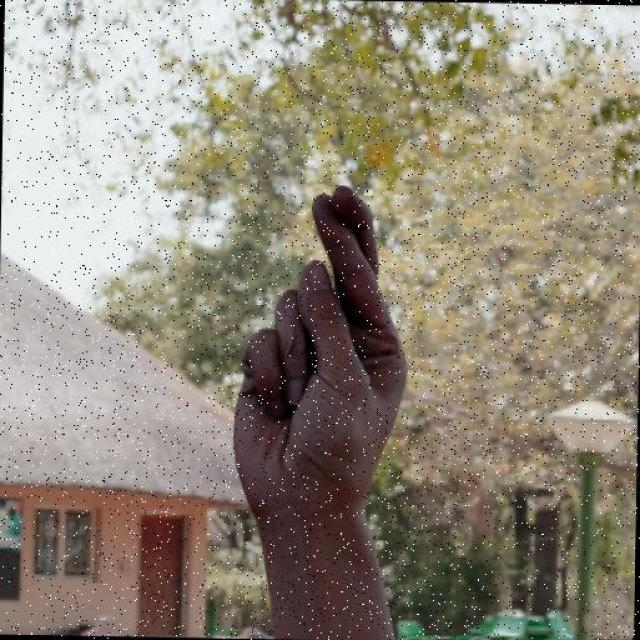R: (226, 178, 419, 531)
